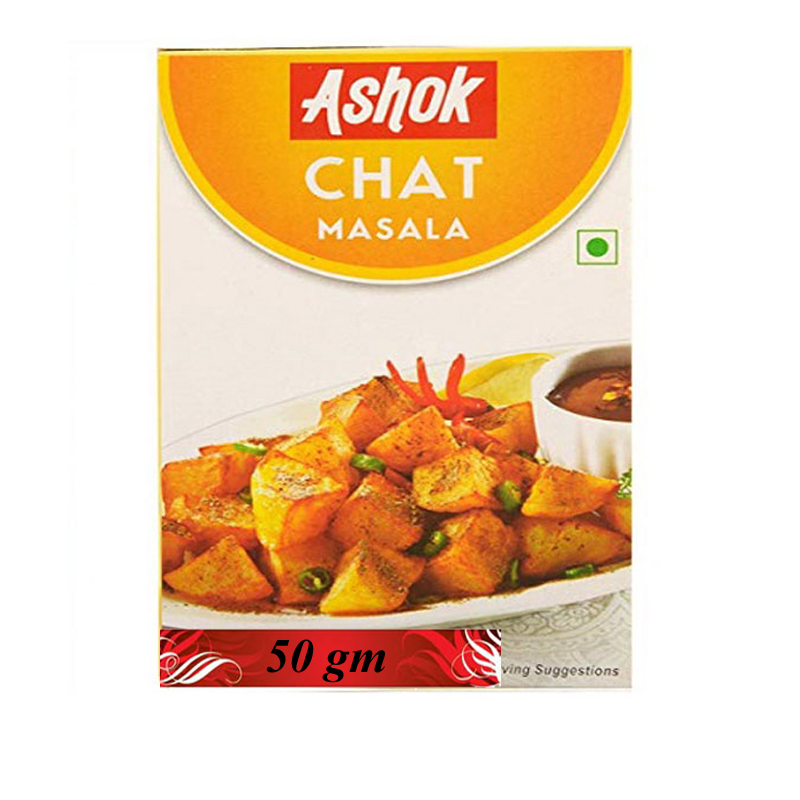VEG: (574, 226, 620, 267)
